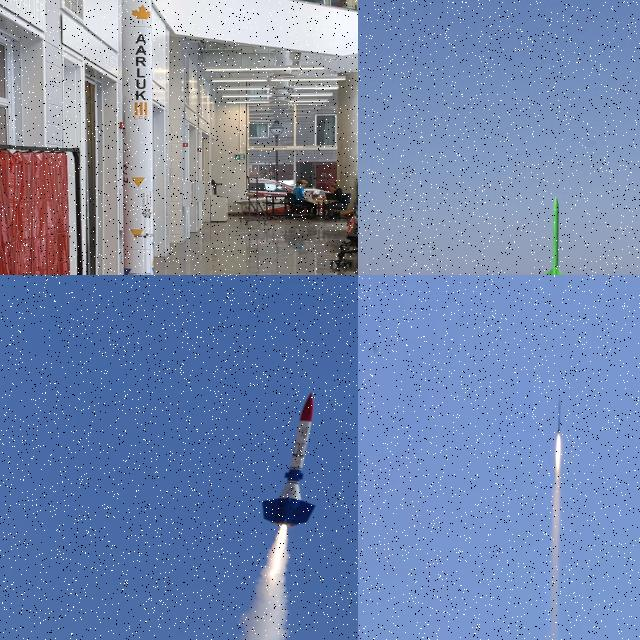Rocket: (121, 0, 154, 275), (260, 392, 319, 528), (545, 195, 563, 275), (557, 396, 561, 434)
